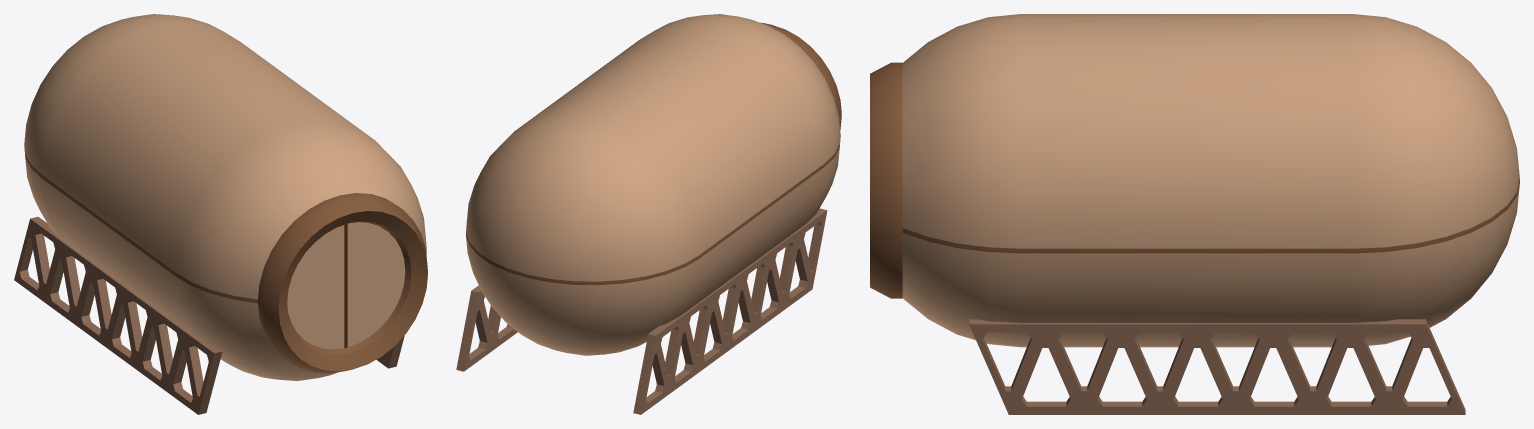
File: quaternius-ultimate-space-house-long.glb
3 views of the same model, side by side, from view 1: azimuth 30°, elevation 25°; view 2: azimuth 150°, elevation 25°; view 3: azimuth 270°, elevation 25° (orthographic). The views are drawn at different scales.
Parts seen in each view (by area): view 1: House_Long; view 2: House_Long; view 3: House_Long.
Boxes of the visible parts, bbox=[...] form: House_Long: bbox=[14, 14, 427, 414]; House_Long: bbox=[456, 14, 841, 414]; House_Long: bbox=[870, 14, 1519, 414].
Size of the model in its own units: 3.99 by 4.31 by 7.79.
1 material, 1 textured.
